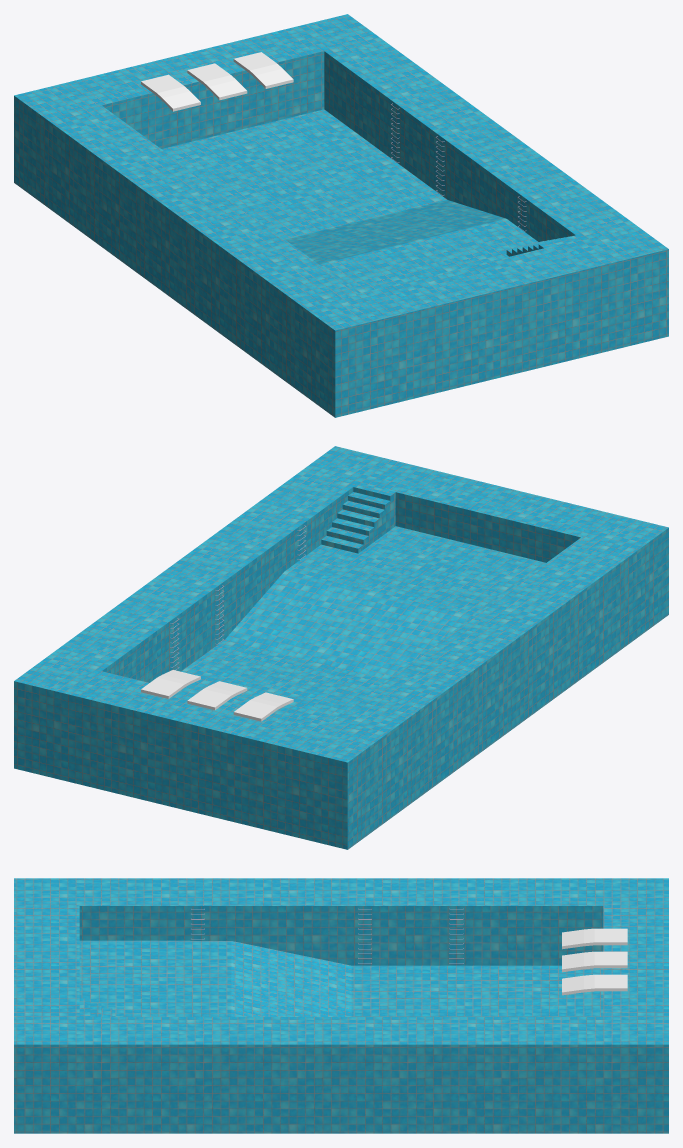
Rendered from pool.obj.
The picture shows the model from 3 angles, top to bottom: view 1: azimuth 30°, elevation 25°; view 2: azimuth 150°, elevation 25°; view 3: azimuth 270°, elevation 25°; orthographic projection.
Visible parts, largest first — view 1: pool; view 2: pool; view 3: pool.
Boxes of the visible parts, x1,y1,x2,y2 form: pool: (14, 14, 668, 417); pool: (14, 446, 668, 849); pool: (14, 878, 668, 1133).
Size of the model in its own units: 36 by 9.3 by 60.
